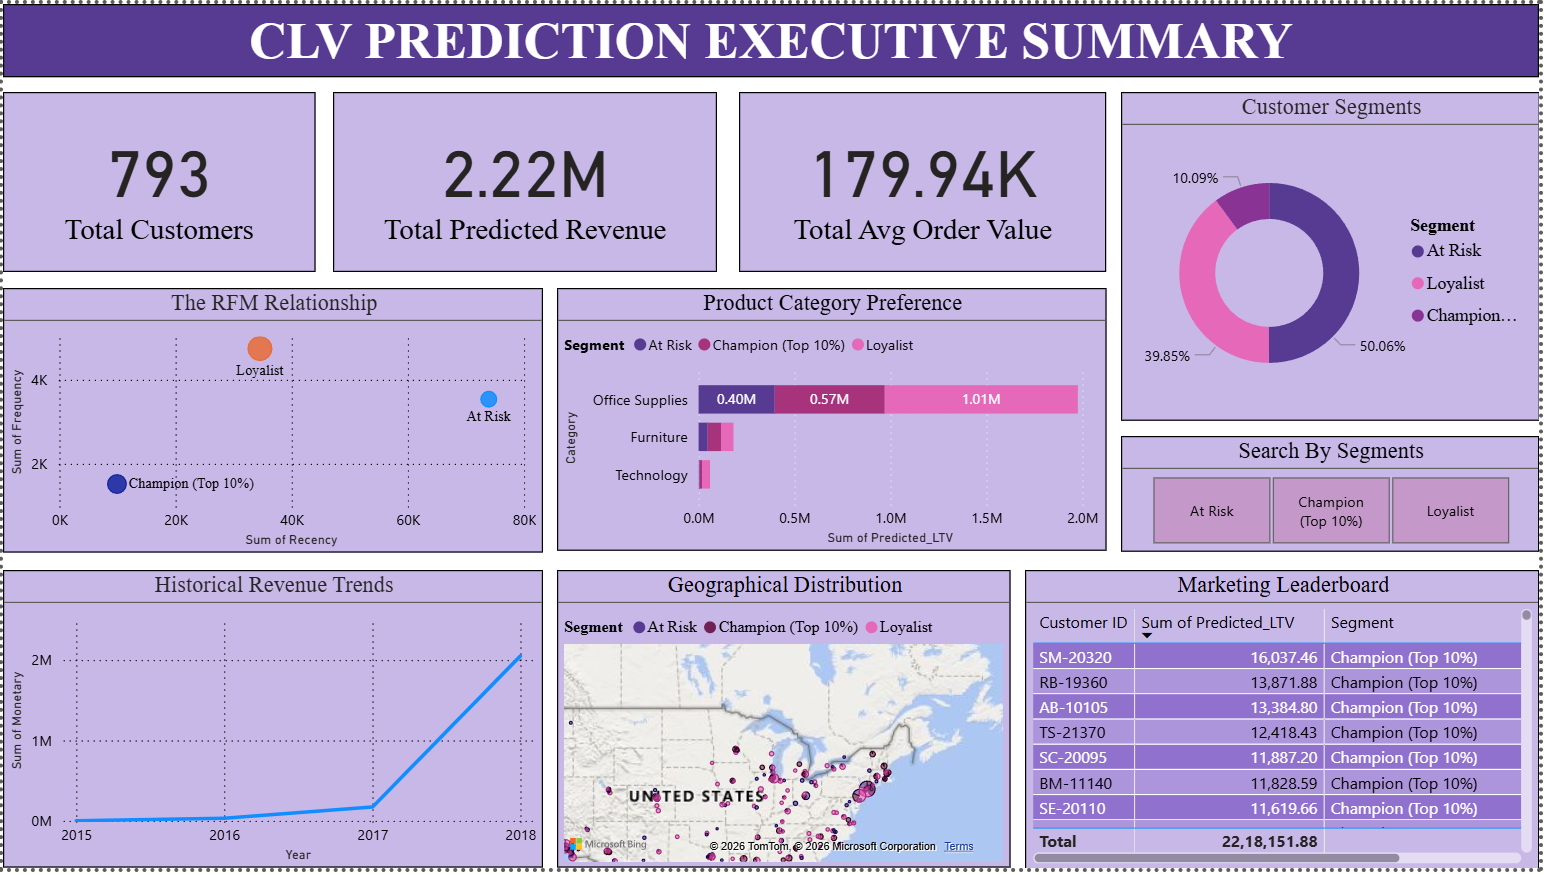

The dashboard page shown, as its layout file describes it:
{"tool":"powerbi","page":{"name":"Page 1","canvas":[1280,720],"ordinal":0},"visuals":[{"type":"textbox","box":[0,0,1280,61.2],"z":0},{"type":"card","fields":{"Values":["Count(Final_Customer_Leaderboard.Customer ID)"]},"box":[0,73.5,260.3,150],"z":1000},{"type":"card","fields":{"Values":["Sum(Final_Customer_Leaderboard.Predicted_LTV)"]},"box":[275.6,73.5,320,150],"z":2000},{"type":"card","fields":{"Values":["Sum(Final_Customer_Leaderboard.Avg_Order_Value)"]},"box":[614,73.5,306.2,150],"z":3000},{"type":"donutChart","title":"Customer Segments","fields":{"Category":["Final_Customer_Leaderboard.Segment"],"Y":["CountNonNull(Final_Customer_Leaderboard.Customer ID)"]},"box":[930.9,73.5,349.1,274.1],"z":4000},{"type":"scatterChart","title":"The RFM Relationship","fields":{"Series":["Final_Customer_Leaderboard.Segment"],"X":["Sum(Final_Customer_Leaderboard.Recency)"],"Y":["Sum(Final_Customer_Leaderboard.Frequency)"],"Size":["Sum(Final_Customer_Leaderboard.Predicted_LTV)"]},"box":[0,237.3,450.1,220.5],"z":5000},{"type":"tableEx","title":"Marketing Leaderboard","fields":{"Values":["Final_Customer_Leaderboard.Customer ID","Sum(Final_Customer_Leaderboard.Predicted_LTV)","Final_Customer_Leaderboard.Segment"]},"box":[851.3,471.6,428.7,249.6],"z":6000},{"type":"lineChart","title":"Historical Revenue Trends","fields":{"Y":["Sum(Final_Project_Leaderboard2.Monetary)"],"Category":["Final_Project_Leaderboard2.Order Date.Variation.Date Hierarchy.Year","Final_Project_Leaderboard2.Order Date.Variation.Date Hierarchy.Quarter","Final_Project_Leaderboard2.Order Date.Variation.Date Hierarchy.Month","Final_Project_Leaderboard2.Order Date.Variation.Date Hierarchy.Day"]},"box":[0,471.6,450.1,248],"z":7000},{"type":"barChart","title":"Product Category Preference","fields":{"Y":["Sum(Final_Project_Leaderboard2.Predicted_LTV)"],"Category":["Final_Project_Leaderboard2.Category"],"Series":["Final_Project_Leaderboard2.Segment"]},"box":[462.4,237.3,457.8,218.9],"z":8000},{"type":"map","title":"Geographical Distribution","fields":{"Category":["Final_Project_Leaderboard2.City"],"Series":["Final_Project_Leaderboard2.Segment"],"Size":["Sum(Final_Project_Leaderboard2.Predicted_LTV)"]},"box":[462.4,471.6,378.2,248],"z":9000},{"type":"slicer","title":"Search By Segments","fields":{"Values":["Final_Project_Leaderboard2.Segment"]},"box":[931.7,360,348.3,96.7],"z":9001}]}

Visuals, with their boxes in screenshot pixels (x1, y1, x2, y2), scaled from the page's 1280x720 canvas onto the 1544x875 screenshot:
textbox: (0,0,1543,74)
card - Count(Final_Customer_Leaderboard.Customer ID): (0,89,314,272)
card - Sum(Final_Customer_Leaderboard.Predicted_LTV): (332,89,718,272)
card - Sum(Final_Customer_Leaderboard.Avg_Order_Value): (741,89,1110,272)
"Customer Segments" donutChart: (1123,89,1543,422)
"The RFM Relationship" scatterChart: (0,288,543,556)
"Marketing Leaderboard" tableEx: (1027,573,1543,874)
"Historical Revenue Trends" lineChart: (0,573,543,874)
"Product Category Preference" barChart: (558,288,1110,554)
"Geographical Distribution" map: (558,573,1014,874)
"Search By Segments" slicer: (1124,437,1543,555)
